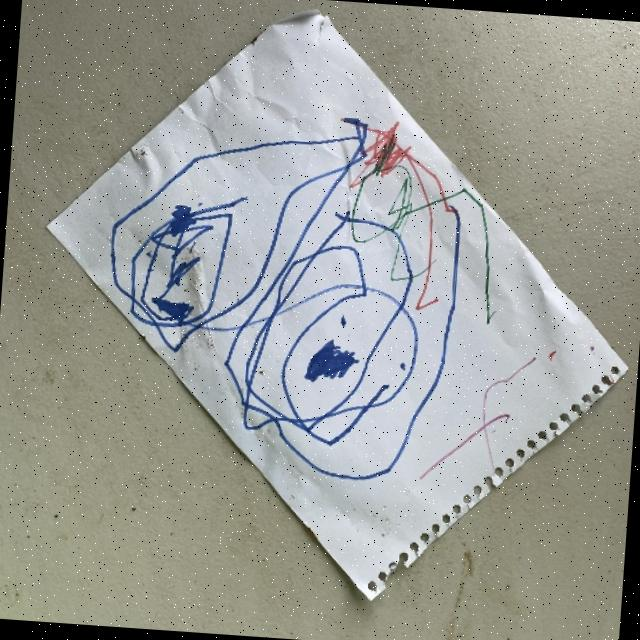paper: (19, 0, 640, 618)
